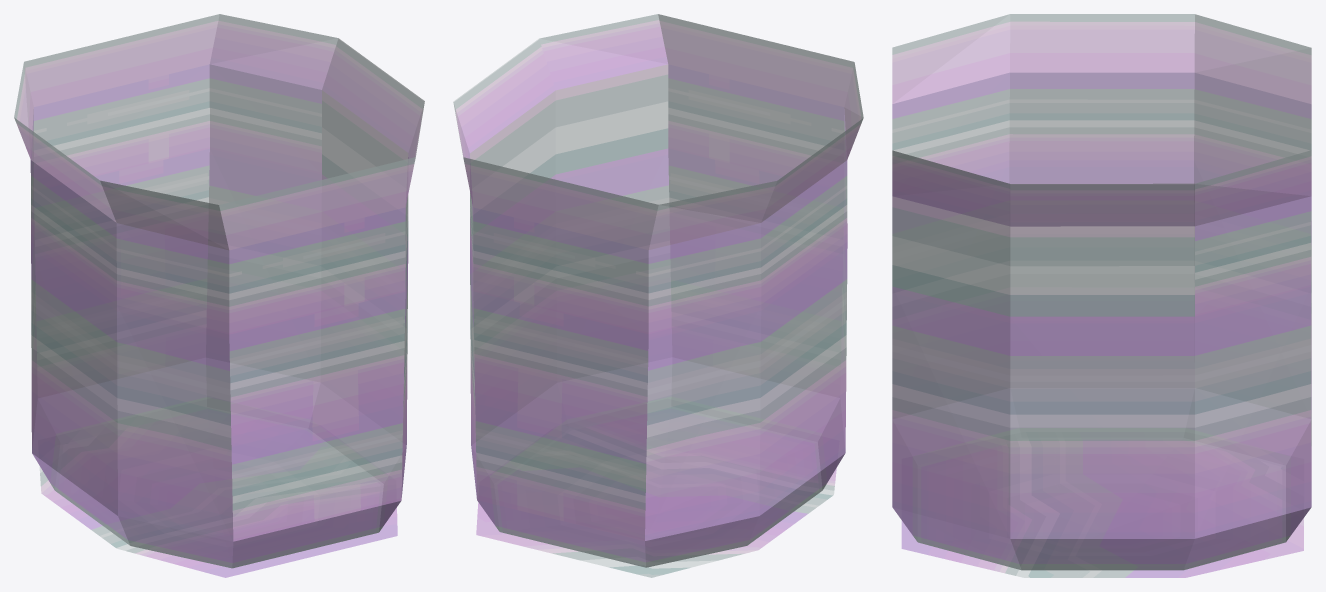
Rendered from 1366item2756.gltf.
The picture shows the model from 3 angles, left to right: view 1: azimuth 30°, elevation 25°; view 2: azimuth 150°, elevation 25°; view 3: azimuth 270°, elevation 25°; orthographic projection. The views are drawn at different scales.
Visible parts, largest first — view 1: 1366item2756; view 2: 1366item2756; view 3: 1366item2756.
Boxes of the visible parts, left/top/right/bottom form: 1366item2756: left=14, top=14, right=424, bottom=577; 1366item2756: left=453, top=14, right=863, bottom=577; 1366item2756: left=892, top=14, right=1311, bottom=577.
Size of the model in its own units: 0.3105 by 0.3696 by 0.3237.
Materials: 3 (3 with a texture image).
